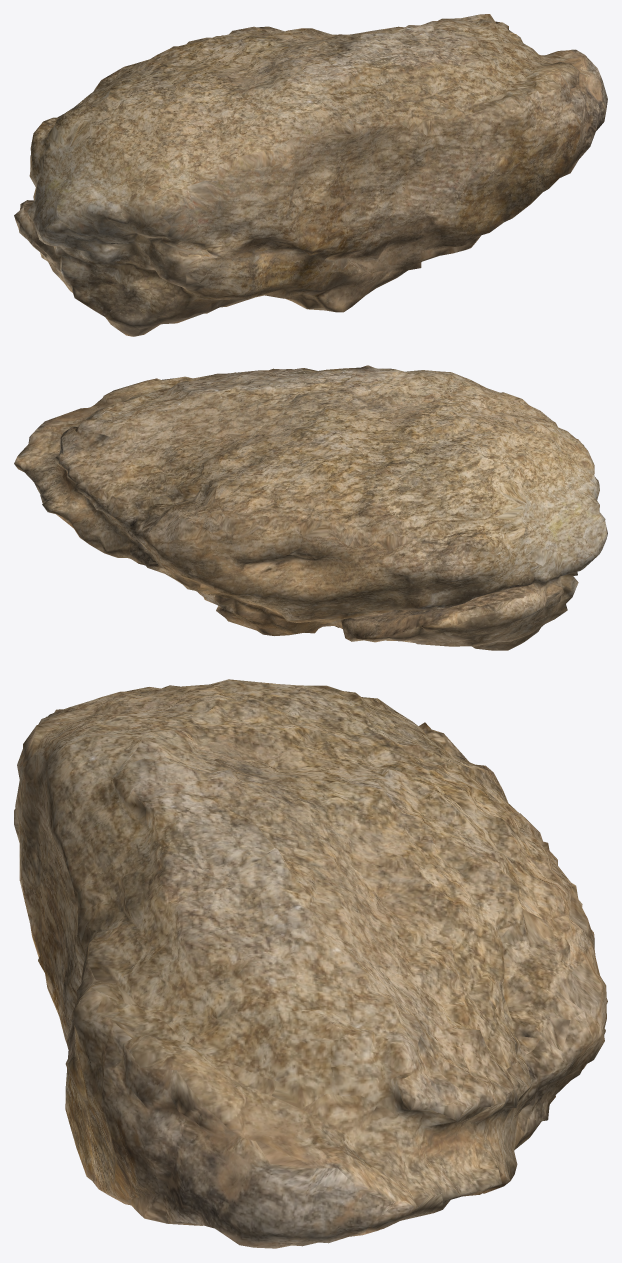
File: boulder_05.gltf
3 views of the same model, one above another, from view 1: azimuth 30°, elevation 25°; view 2: azimuth 150°, elevation 25°; view 3: azimuth 270°, elevation 25° (orthographic). The views are drawn at different scales.
Visible parts, largest first — view 1: boulder_05; view 2: boulder_05; view 3: boulder_05.
Part boxes in pixels (x1,y1,x2,y2): boulder_05: (14, 14, 607, 336); boulder_05: (14, 365, 607, 650); boulder_05: (14, 679, 607, 1248).
Size of the model in its own units: 1.36 by 0.5332 by 0.7462.
1 material, 1 textured.
